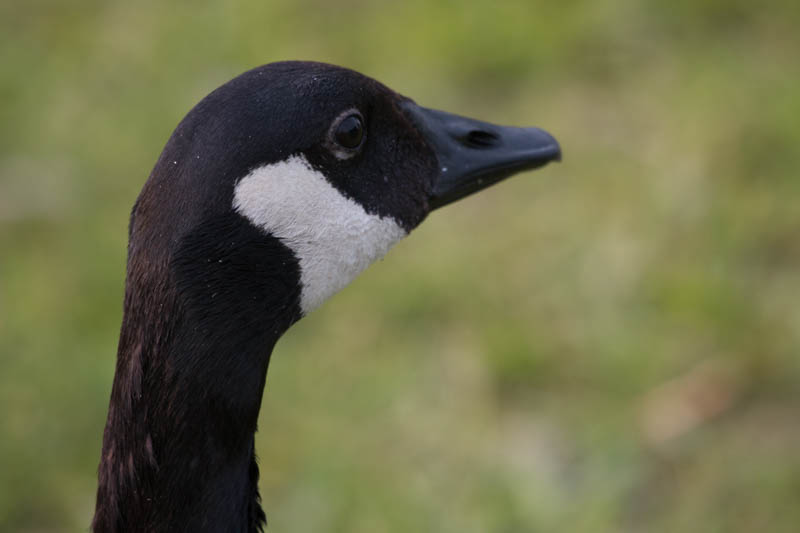goose-head: (126, 60, 563, 335)
